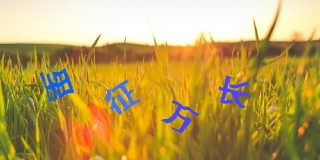万: (162, 99, 199, 134)
征: (105, 79, 142, 115)
里: (38, 69, 76, 101)
长: (218, 75, 251, 110)
